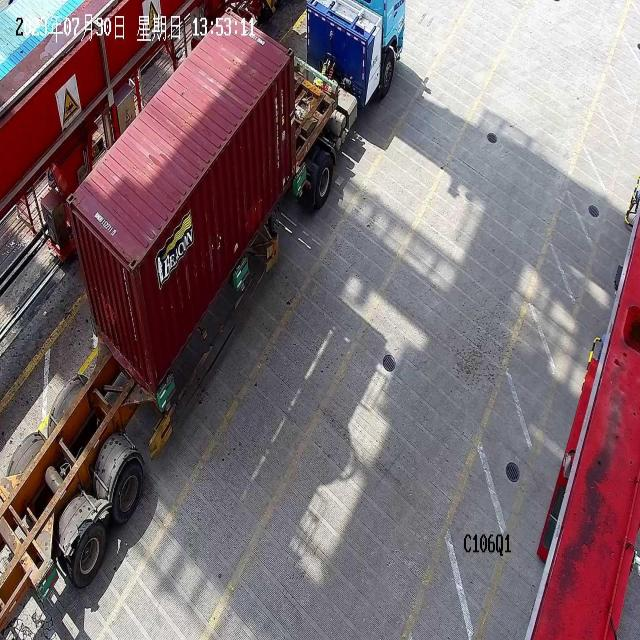dent: (90, 329, 150, 389)
